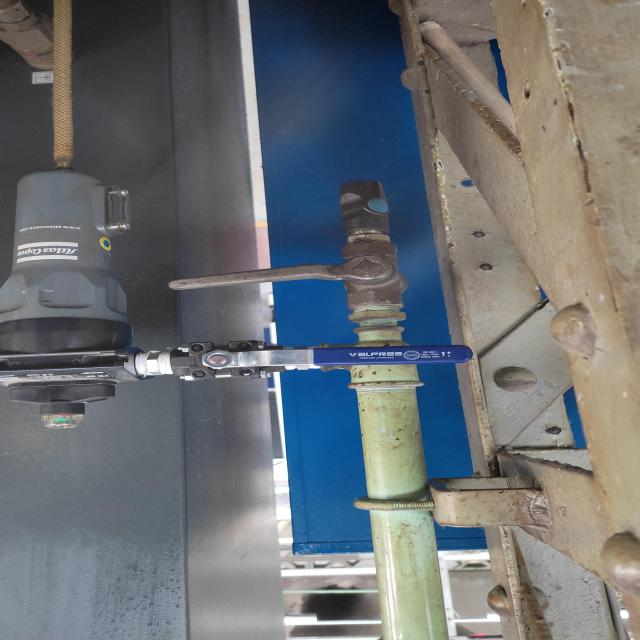closed_valve: (165, 238, 411, 309)
opened_valve: (167, 340, 474, 382)
